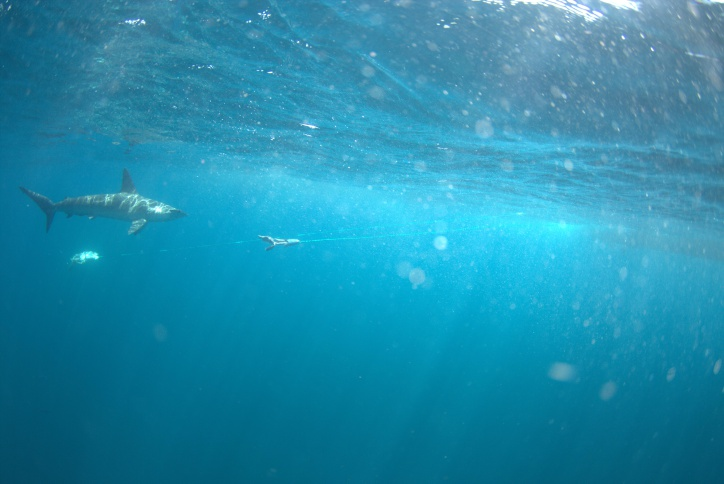Hammer: (21, 158, 187, 246)
